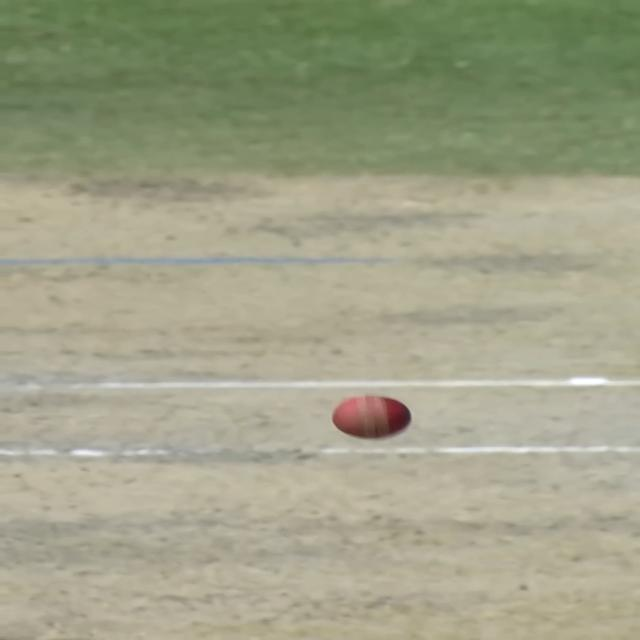Cricket ball: (327, 390, 419, 443)
